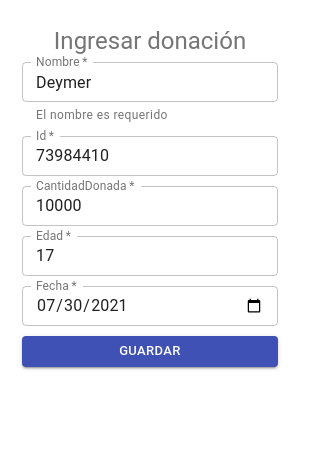
Test: Pruebas en la pagina FormPage › Guardar donacion y mostrar boton con el texto ´Ver donaciones´
Click the button "Guardar": (150, 352) [22,336,278,367]
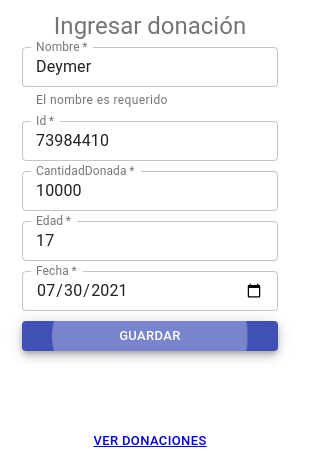
Result: the number of buttons is 2 at [22,320,278,351]; [88,426,212,456]
